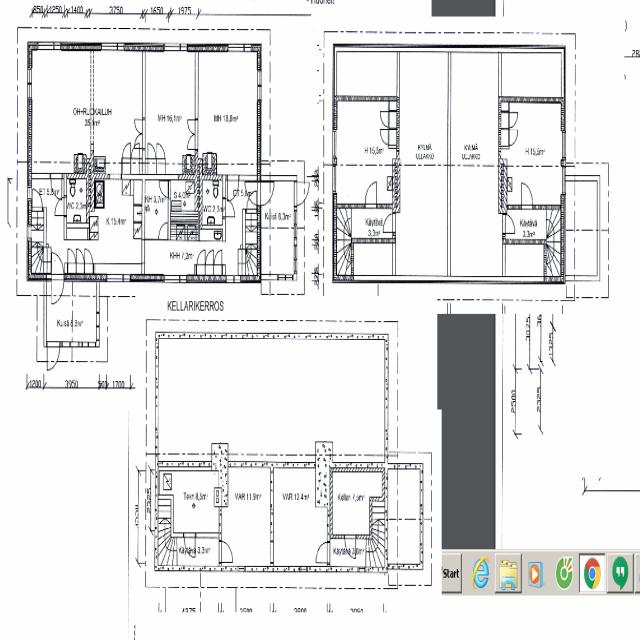door: (294, 182, 310, 206), (52, 251, 64, 282), (52, 273, 64, 304), (245, 182, 261, 204), (257, 182, 273, 204), (47, 341, 59, 370), (316, 542, 330, 563), (219, 541, 233, 562), (184, 532, 195, 558), (51, 175, 62, 201), (502, 214, 516, 233), (228, 176, 238, 202), (222, 198, 235, 218), (366, 182, 376, 208), (522, 183, 532, 209), (32, 188, 42, 212), (345, 535, 355, 558), (246, 191, 256, 213), (54, 197, 66, 215), (383, 214, 395, 232), (159, 219, 167, 240), (134, 119, 145, 134), (187, 134, 197, 150), (160, 182, 170, 198), (380, 112, 390, 128), (134, 134, 145, 148), (187, 119, 197, 134), (508, 130, 517, 146), (381, 130, 390, 144), (508, 113, 516, 126)
